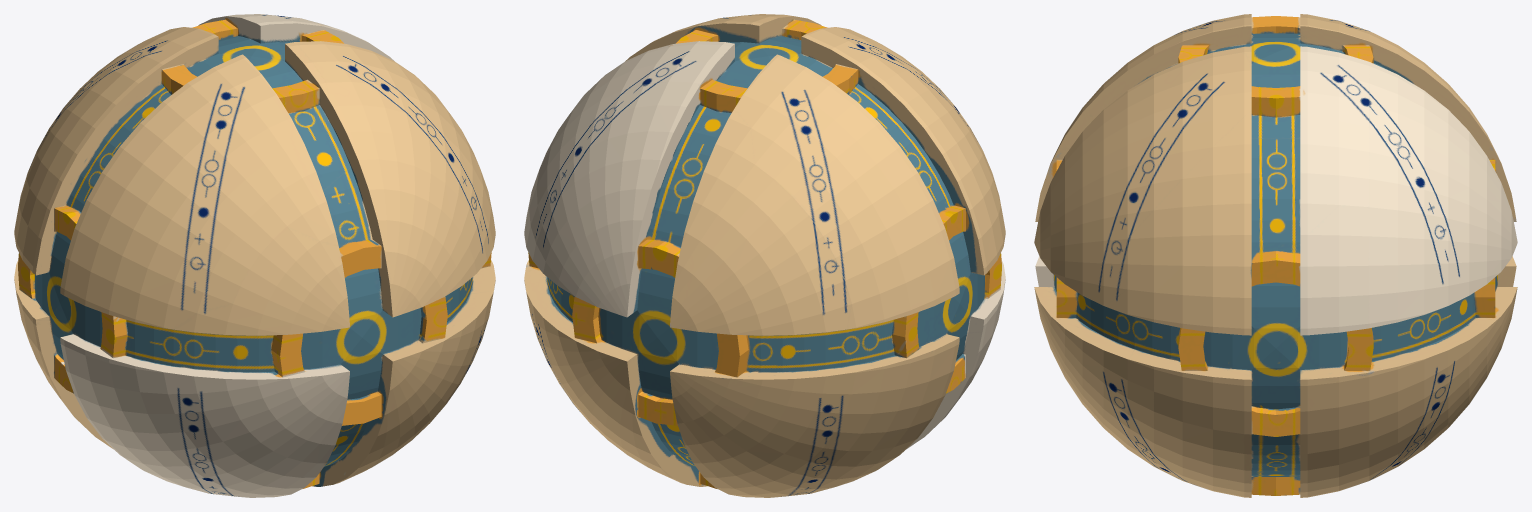
File: Orb.fbx
3 renders of one model, left to right at view 1: azimuth 30°, elevation 25°; view 2: azimuth 150°, elevation 25°; view 3: azimuth 270°, elevation 25°, orthographic.
Parts seen in each view (by area): view 1: node_id3; view 2: node_id3; view 3: node_id3.
Part boxes in pixels (bbox=[...]): node_id3: bbox=[14, 14, 495, 497]; node_id3: bbox=[524, 14, 1005, 497]; node_id3: bbox=[1034, 14, 1517, 497].
Bounding box in the file's own units: 0.5115 × 0.512 × 0.5137.
1 material, 1 textured.
